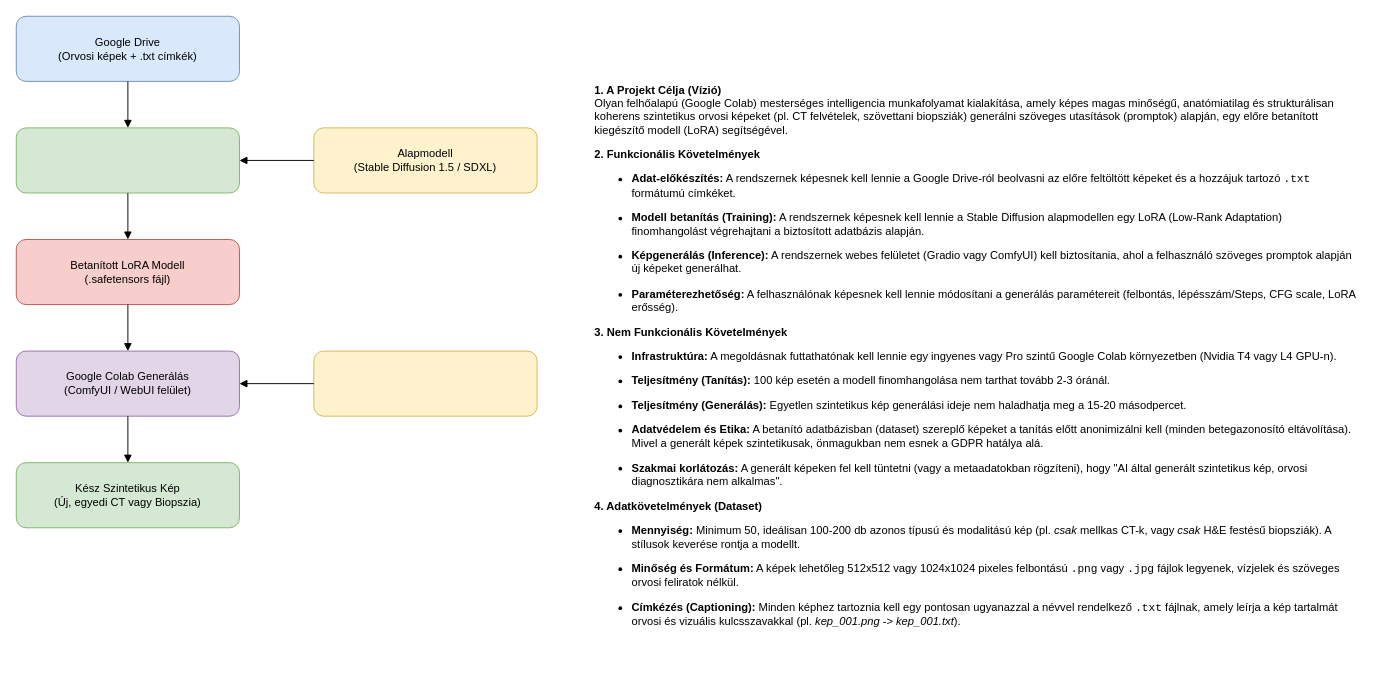
Image size: 1375x674. Some labels were removed from this diagram. Here are the shapes that lost their labels. From the top down, the centre of each, then its label:
At (127,160): "Google Colab Tanítás (Kohya_ss LoRA folyamat)".
At (425,383): "Felhasználó (Szöveges prompt pl: 'CT scan')".
